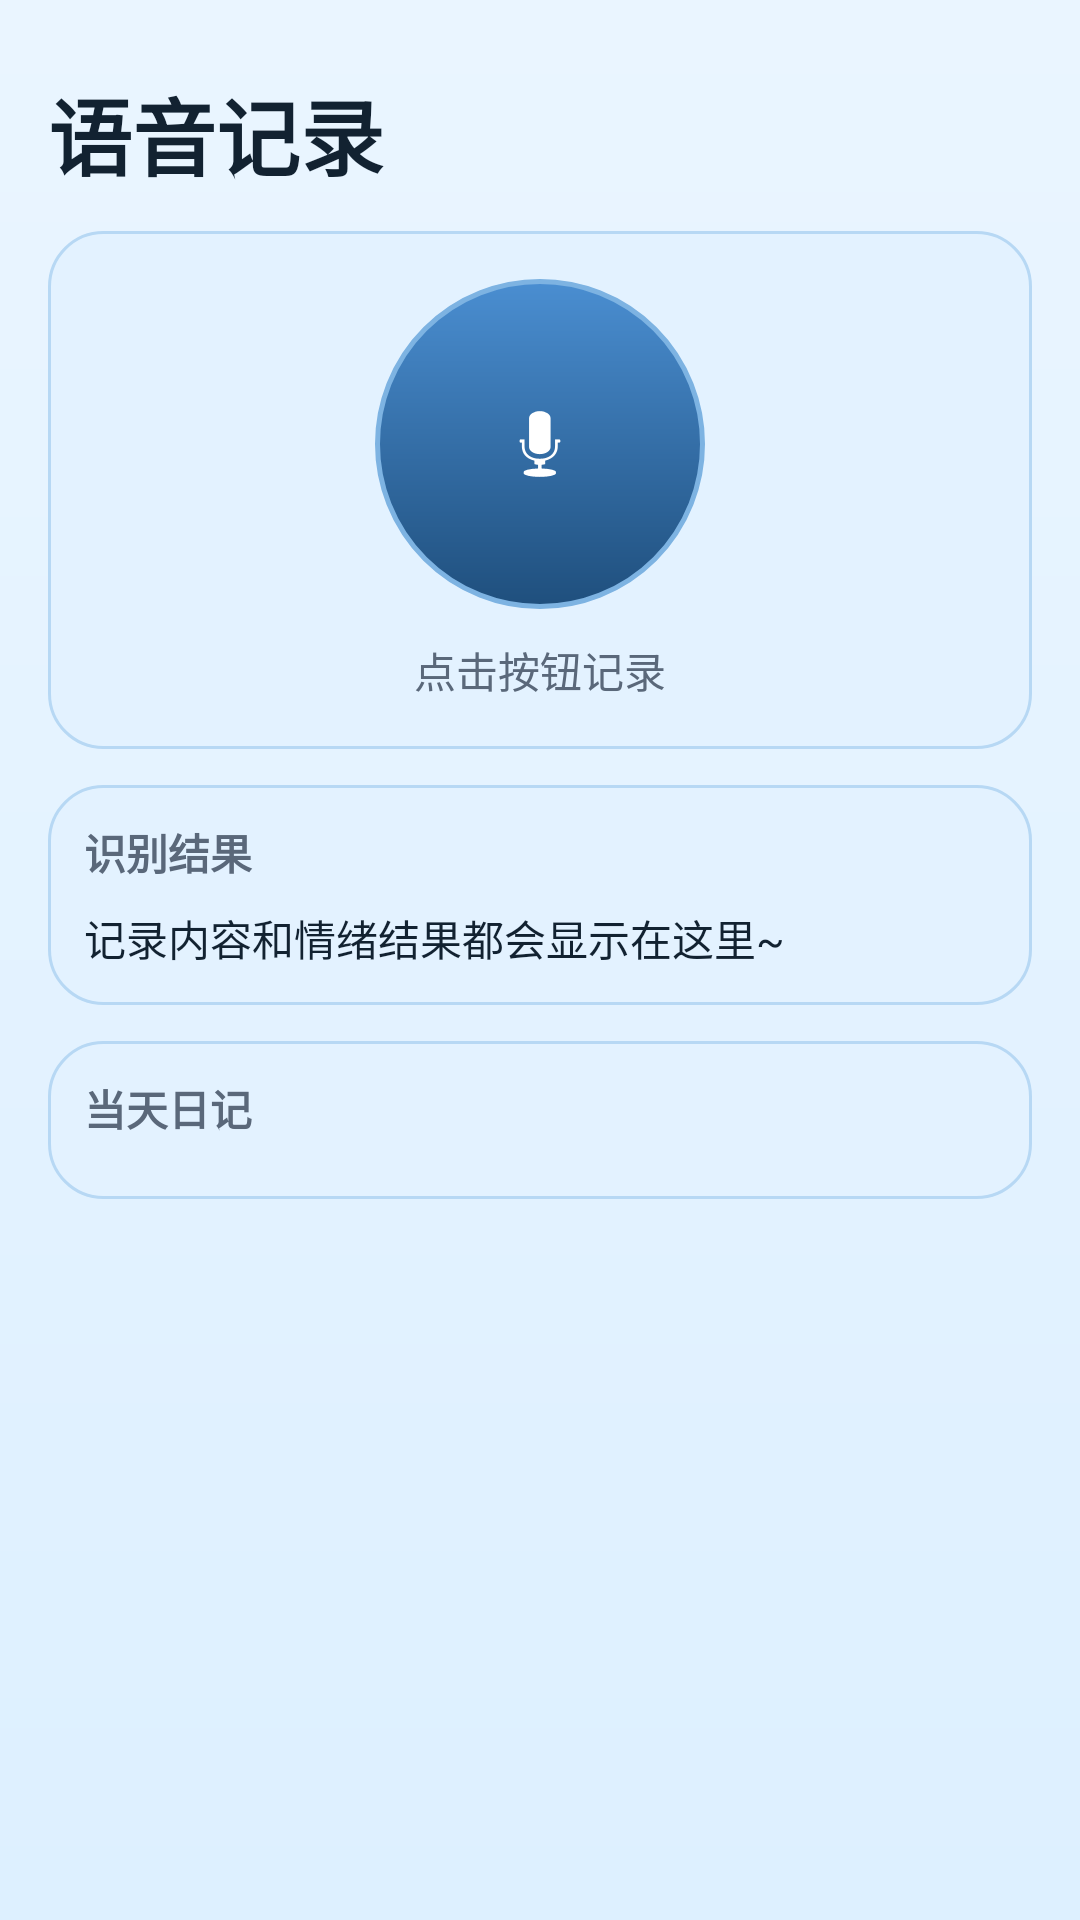

Screen size 1080 × 1920. Icon name, then its center in pixels as (x=x, y=y):
录音: (x=540, y=444)
